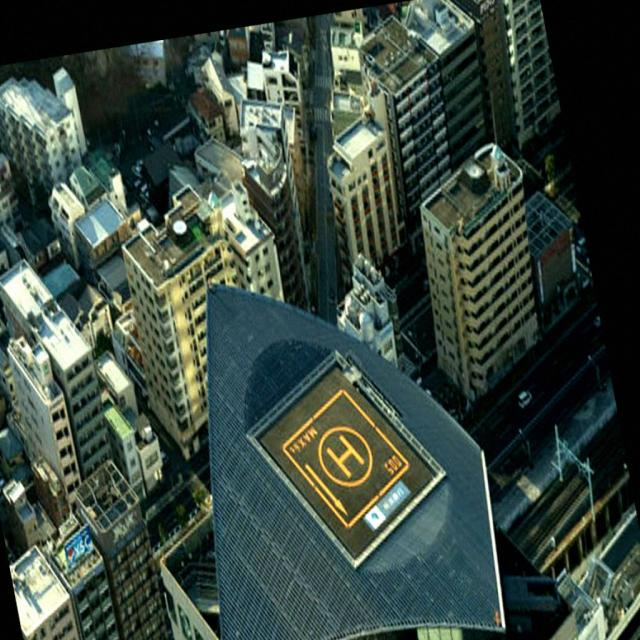helipad: (316, 423, 376, 488)
